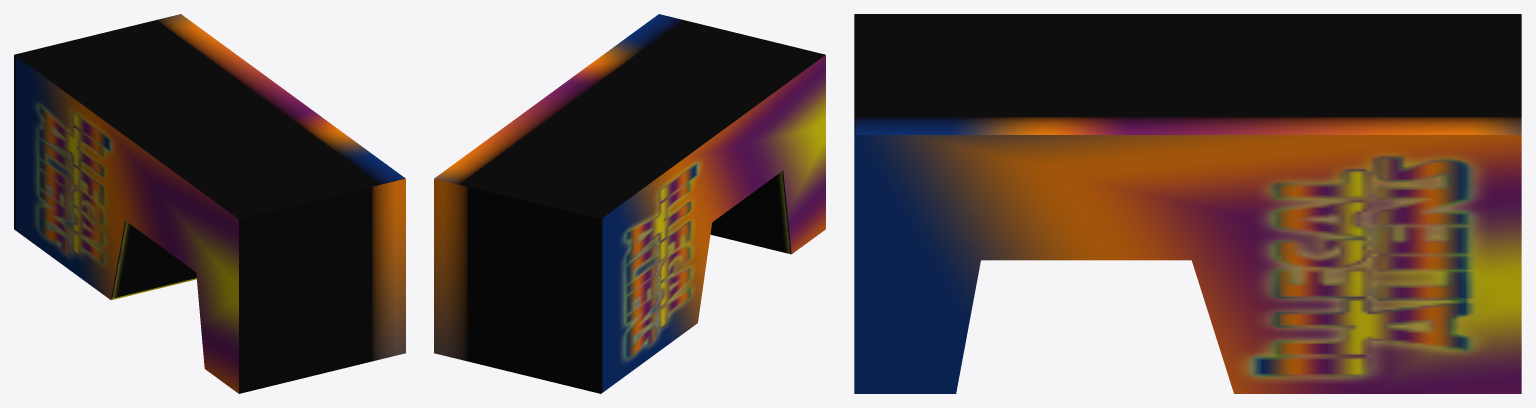
File: illegaaliensgame_wtf.obj
3 views of the same model, side by side, from view 1: azimuth 30°, elevation 25°; view 2: azimuth 150°, elevation 25°; view 3: azimuth 270°, elevation 25° (orthographic). The views are drawn at different scales.
Parts seen in each view (by area): view 1: group2; view 2: group2; view 3: group2.
Part boxes in pixels (x1=…): group2: x1=14, y1=14, x2=405, y2=393; group2: x1=434, y1=14, x2=825, y2=393; group2: x1=854, y1=14, x2=1521, y2=393.
Bounding box in the file's own units: 283 × 283 × 660.
